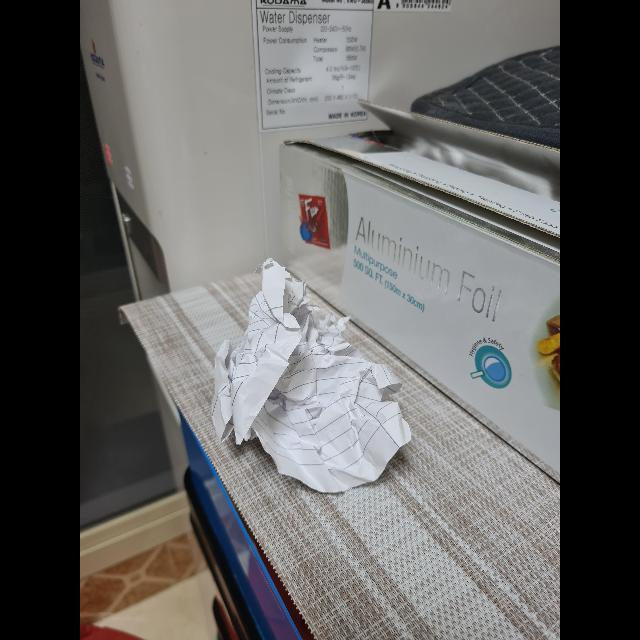scrap_paper: (219, 264, 405, 488)
